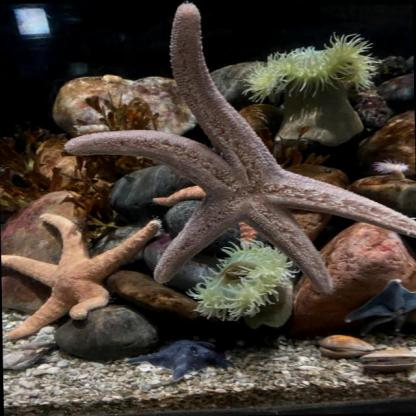starfish: (59, 0, 415, 301), (0, 211, 164, 341)
